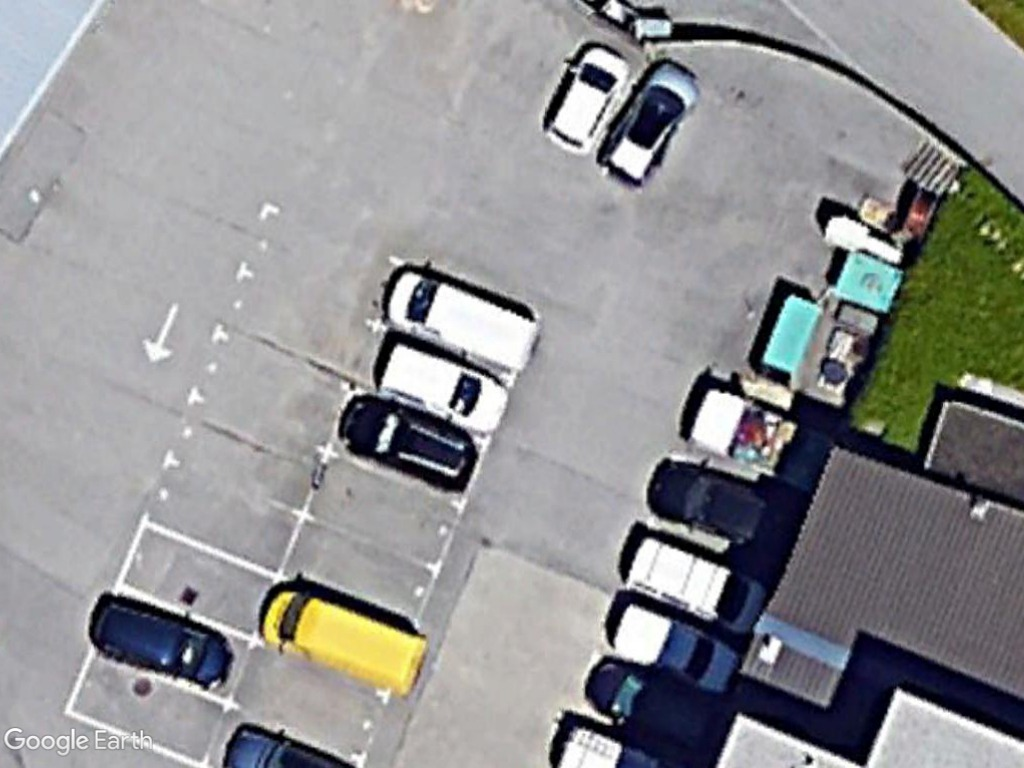car: (88, 595, 239, 696), (593, 56, 705, 185), (339, 395, 485, 493), (370, 336, 515, 434), (533, 36, 637, 155), (607, 599, 740, 692)
van: (259, 586, 433, 697), (382, 265, 542, 379), (629, 530, 770, 632)
